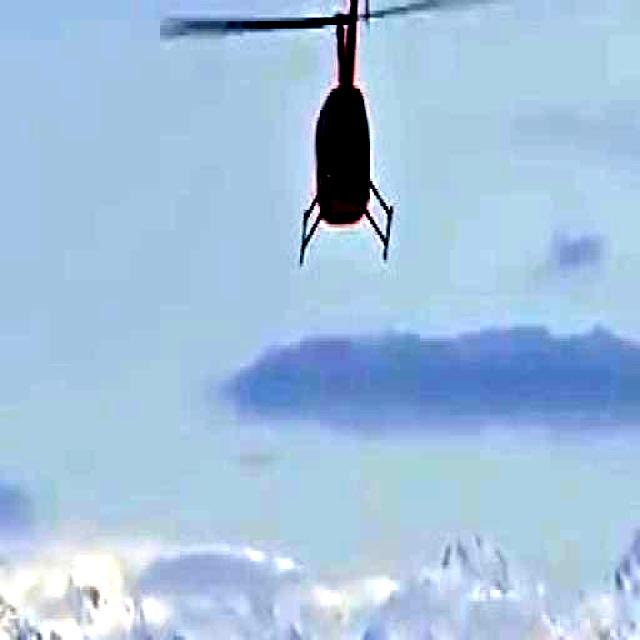drone: (189, 0, 498, 266)
